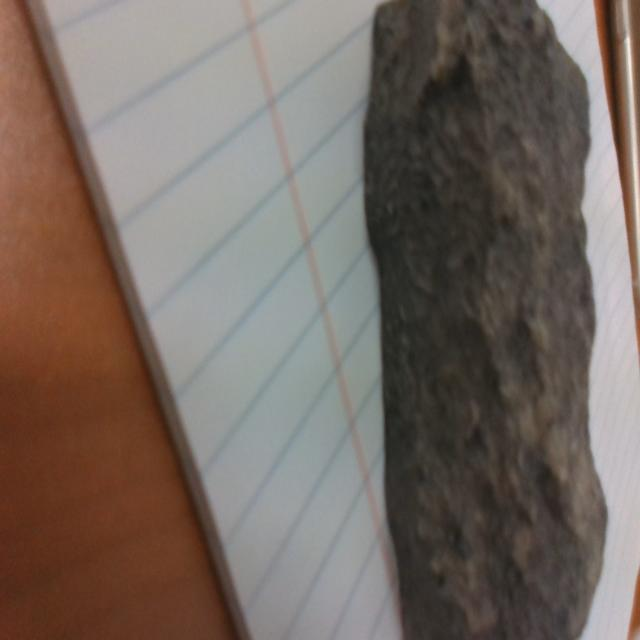stone: (363, 0, 607, 639)
